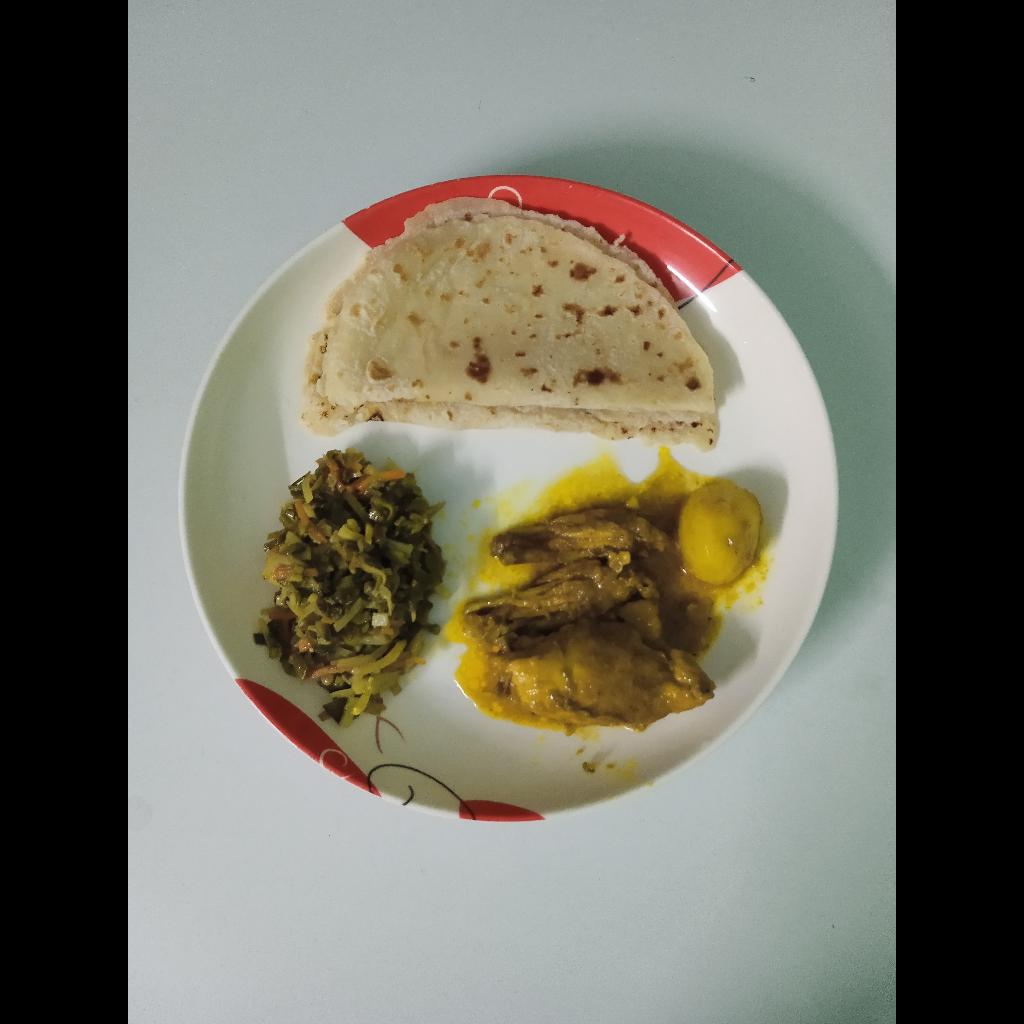chicken: (462, 505, 726, 734)
potato: (673, 478, 767, 594)
ruti: (303, 199, 719, 444)
shak: (257, 457, 428, 720)
